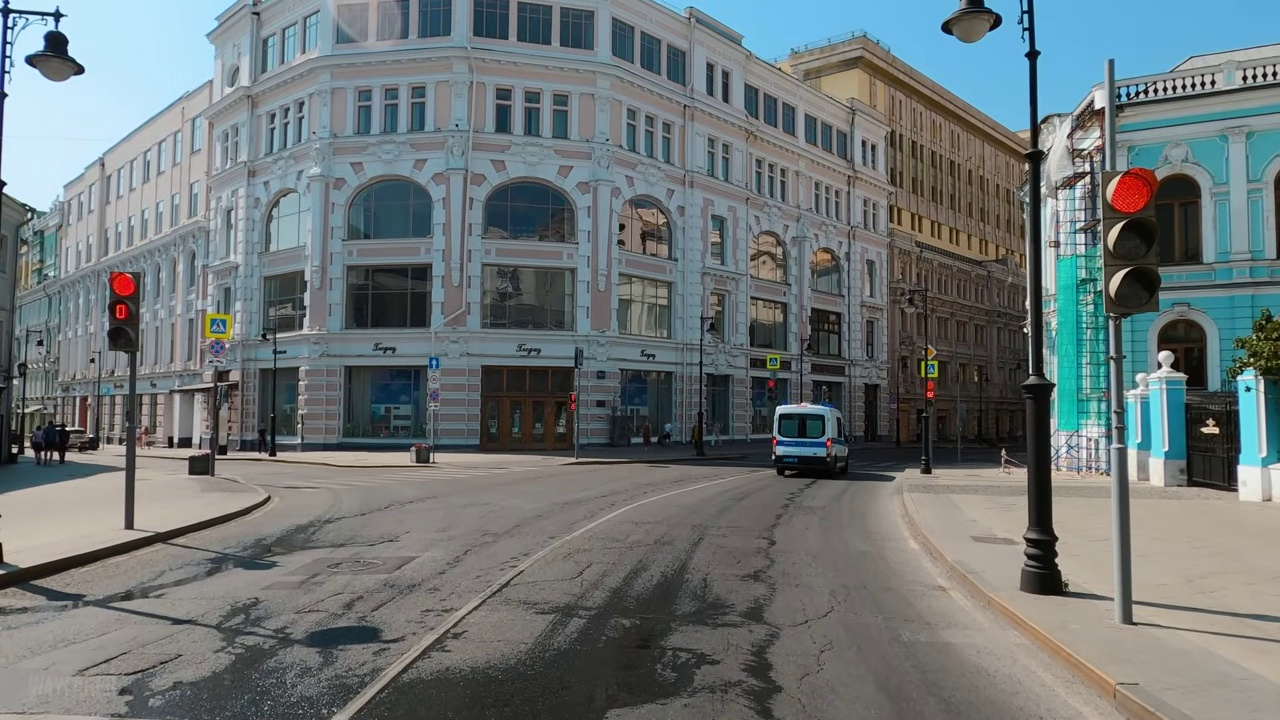apagada: (27, 38, 85, 87), (946, 12, 997, 44)
